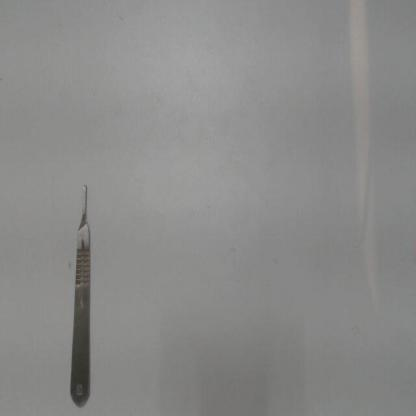No.3 BP Handle: (64, 176, 102, 413)
